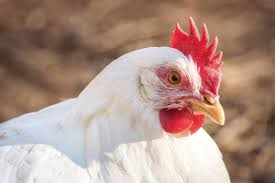Healthy: (78, 12, 234, 150)
